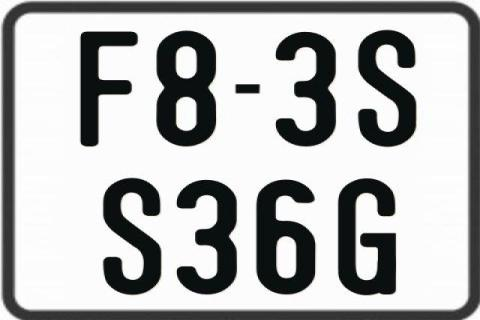0: (274, 29, 339, 149), (154, 28, 219, 146), (174, 178, 239, 294), (254, 179, 316, 296)
F: (79, 31, 137, 146)
G: (337, 177, 399, 295)
S: (103, 176, 161, 297), (358, 30, 417, 148)
